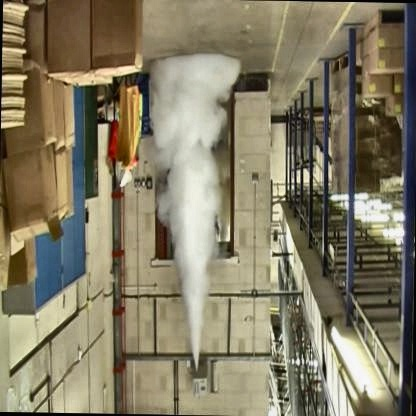smoke: (144, 56, 226, 375)
